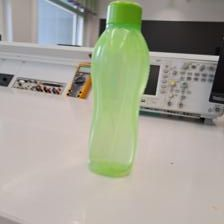bottle: (81, 1, 151, 178)
